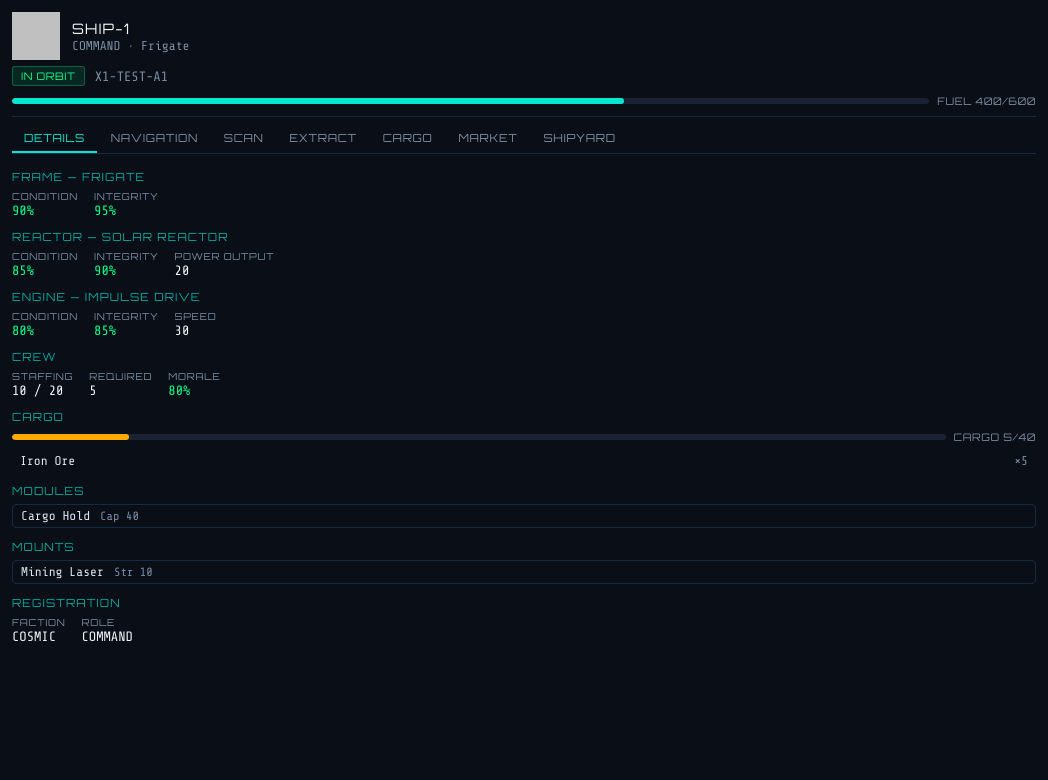
FlightControl › switches to Scan tab
The width and height of the screenshot is (1048, 780).
Click the button "Scan": (244, 139) x1=212 y1=125 x2=276 y2=153
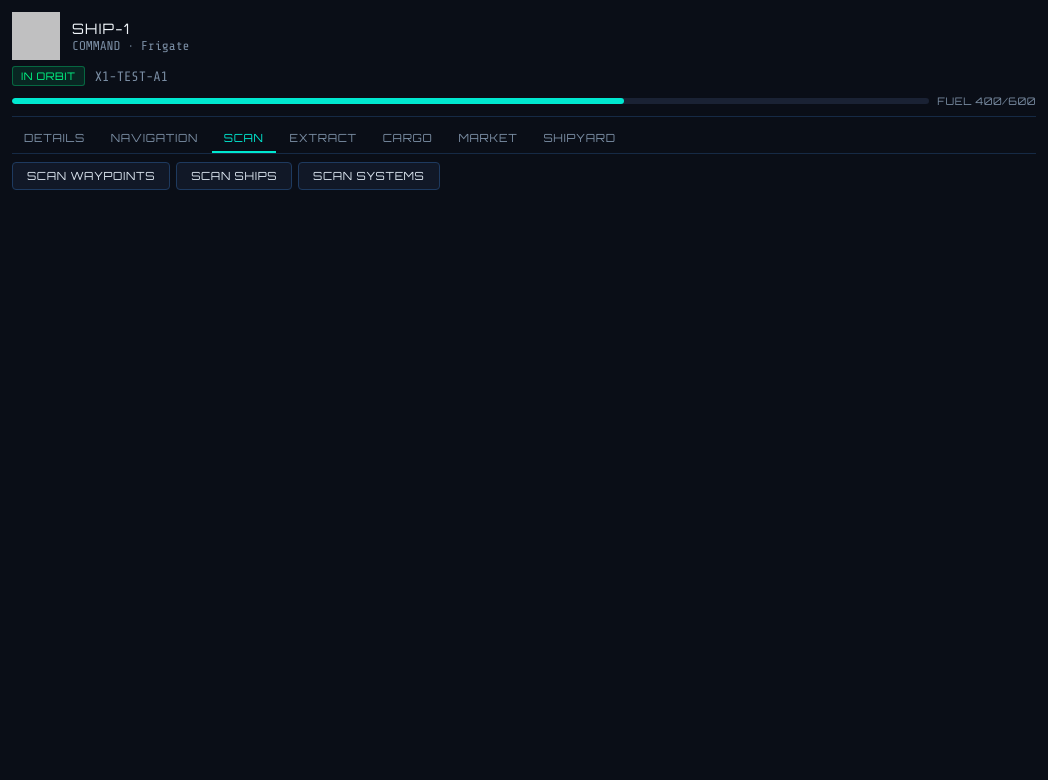
Now the button "Scan Waypoints" is shown, box x1=12 y1=162 x2=170 y2=190
Now the button "Scan Ships" is shown, box x1=176 y1=162 x2=292 y2=190
Now the button "Scan Systems" is shown, box x1=298 y1=162 x2=440 y2=190
